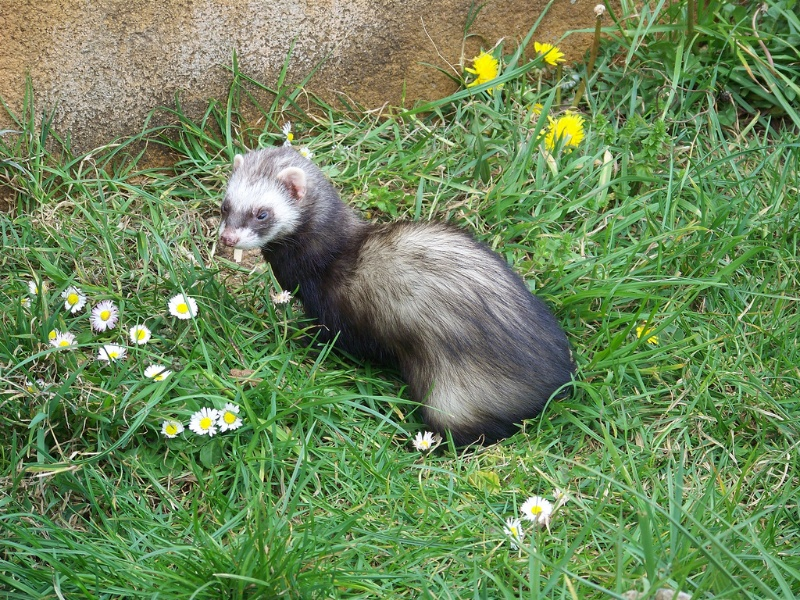minkish: (215, 147, 582, 437)
